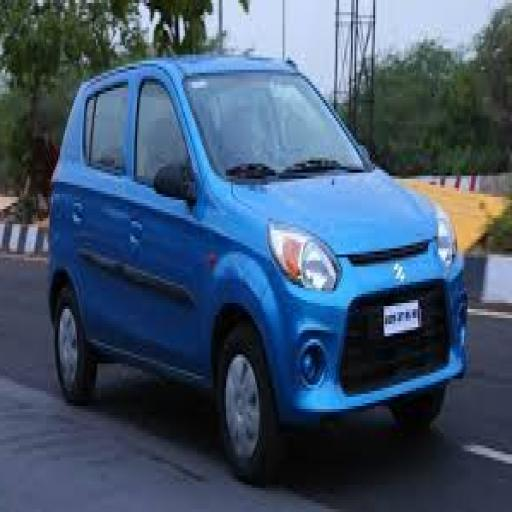License: (372, 292, 426, 338)
